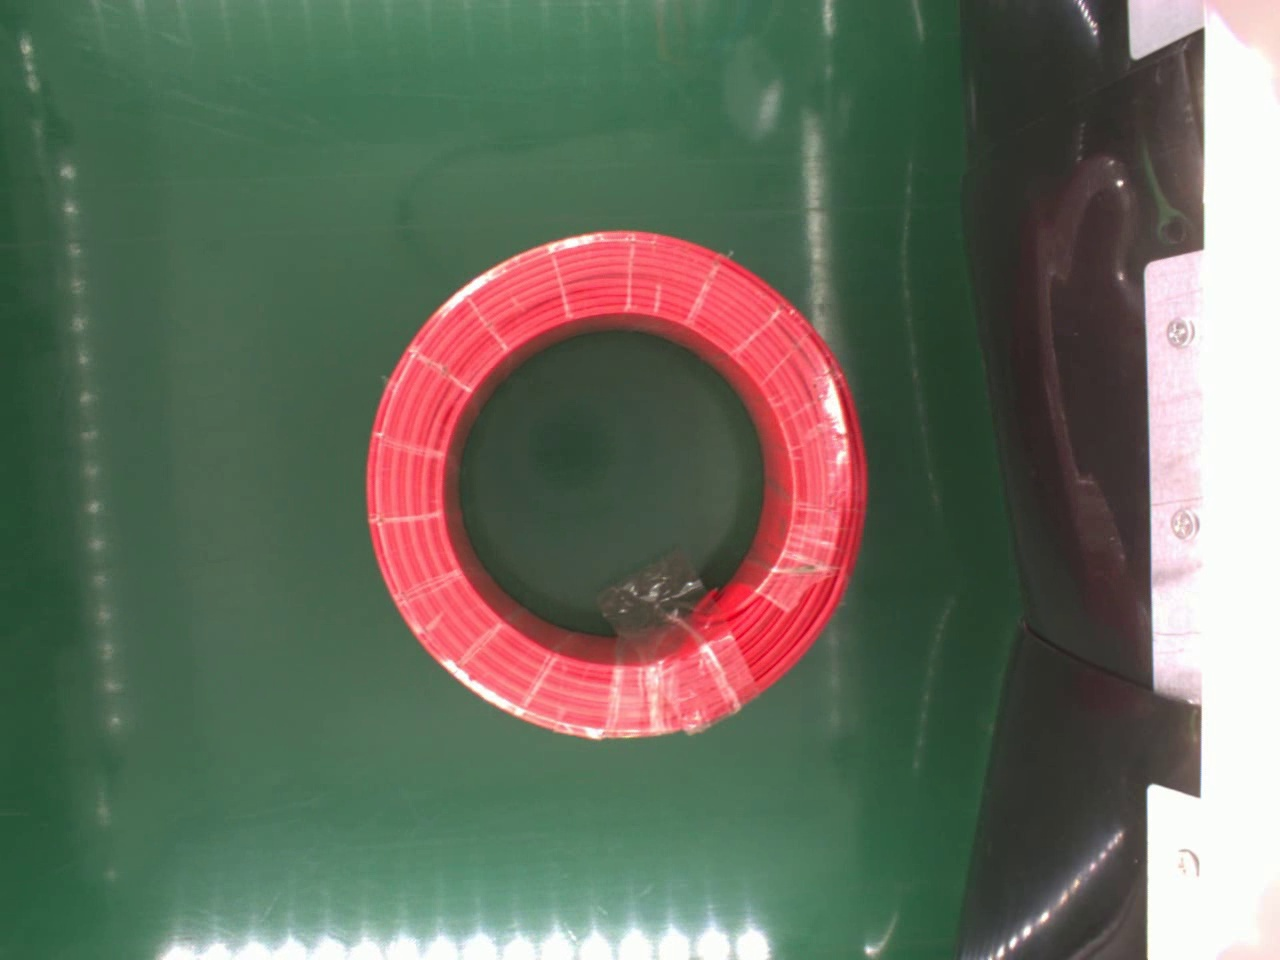red: (361, 224, 869, 741)
